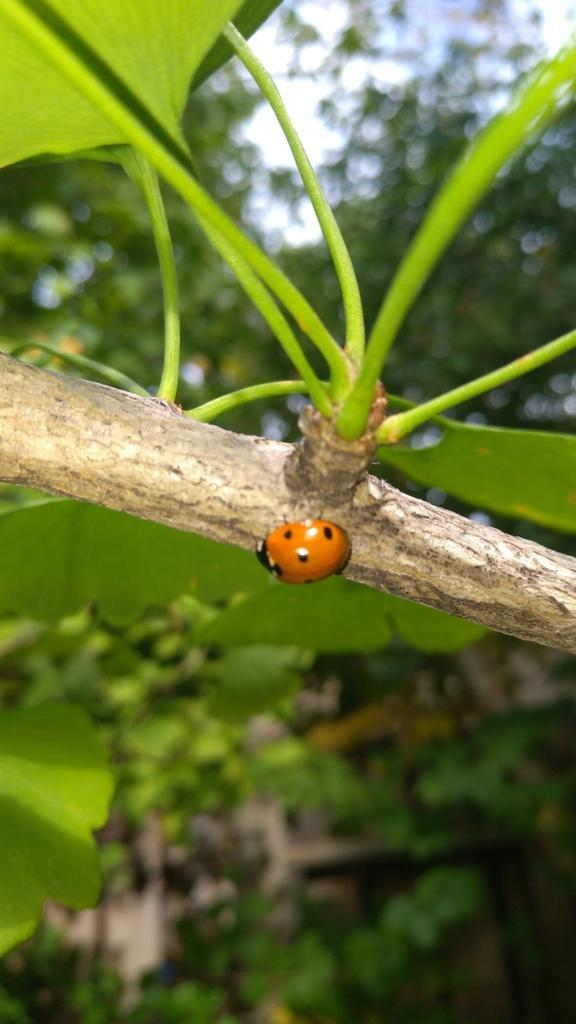ladybug: (249, 510, 355, 587)
